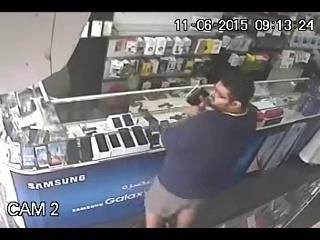Normal: (144, 60, 258, 227)
